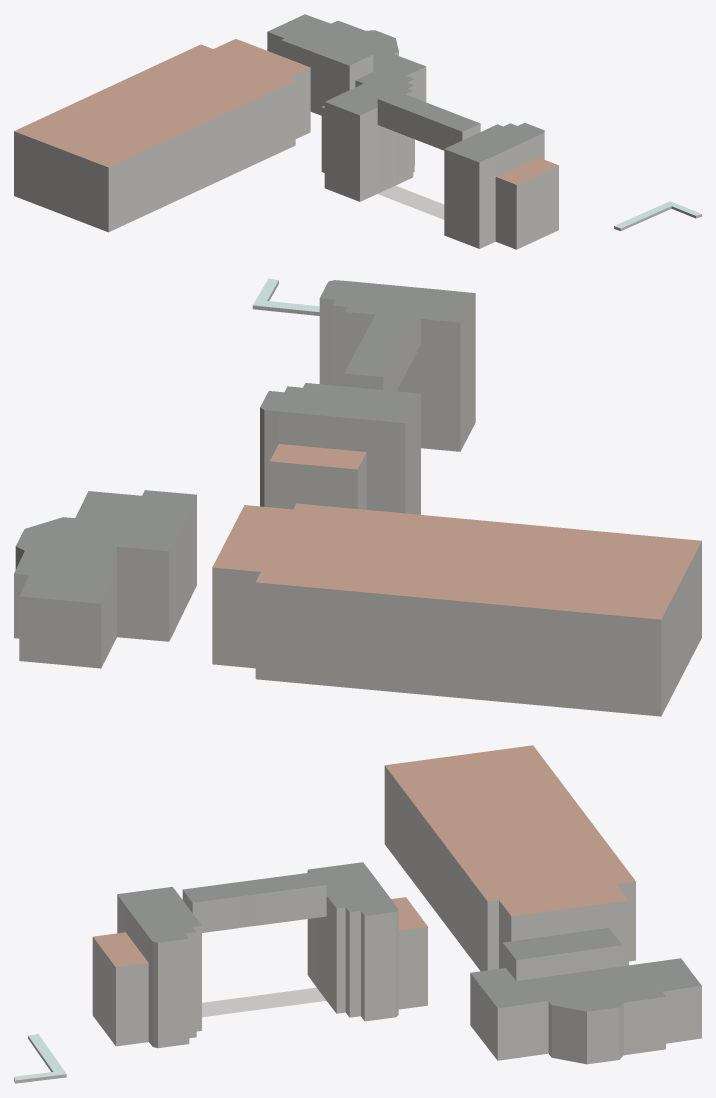
Rendered from gridID_75.dae.
3 views of the same model, one above another, from view 1: azimuth 30°, elevation 25°; view 2: azimuth 150°, elevation 25°; view 3: azimuth 270°, elevation 25° (orthographic). The views are drawn at different scales.
Parts seen in each view (by area): view 1: model_gridID_75_w375893612_001, model_gridID_75_w375893612, model_gridID_75_w376043950_001, model_gridID_75_w376043960_001, model_gridID_75_w375893613; view 2: model_gridID_75_w375893612_001, model_gridID_75_w375893612, model_gridID_75_w376043950_001, model_gridID_75_w376043960_001, model_gridID_75_w375893613; view 3: model_gridID_75_w375893612, model_gridID_75_w375893612_001, model_gridID_75_w376043950_001, model_gridID_75_w376043960_001, model_gridID_75_w375893613.
Part boxes in pixels (bbox=[...]): model_gridID_75_w375893612_001: bbox=[14, 44, 295, 232]; model_gridID_75_w375893612: bbox=[321, 71, 558, 249]; model_gridID_75_w376043950_001: bbox=[267, 14, 426, 115]; model_gridID_75_w376043960_001: bbox=[213, 39, 310, 138]; model_gridID_75_w375893613: bbox=[614, 201, 701, 231]; model_gridID_75_w375893612_001: bbox=[255, 503, 701, 716]; model_gridID_75_w375893612: bbox=[260, 280, 475, 514]; model_gridID_75_w376043950_001: bbox=[14, 490, 196, 668]; model_gridID_75_w376043960_001: bbox=[212, 505, 292, 668]; model_gridID_75_w375893613: bbox=[252, 278, 319, 315]; model_gridID_75_w375893612: bbox=[92, 862, 427, 1048]; model_gridID_75_w375893612_001: bbox=[384, 745, 635, 971]; model_gridID_75_w376043950_001: bbox=[470, 928, 701, 1064]; model_gridID_75_w376043960_001: bbox=[499, 884, 628, 968]; model_gridID_75_w375893613: bbox=[14, 1034, 66, 1083].
Bounding box in the file's own units: 57.53 × 59.19 × 11.
